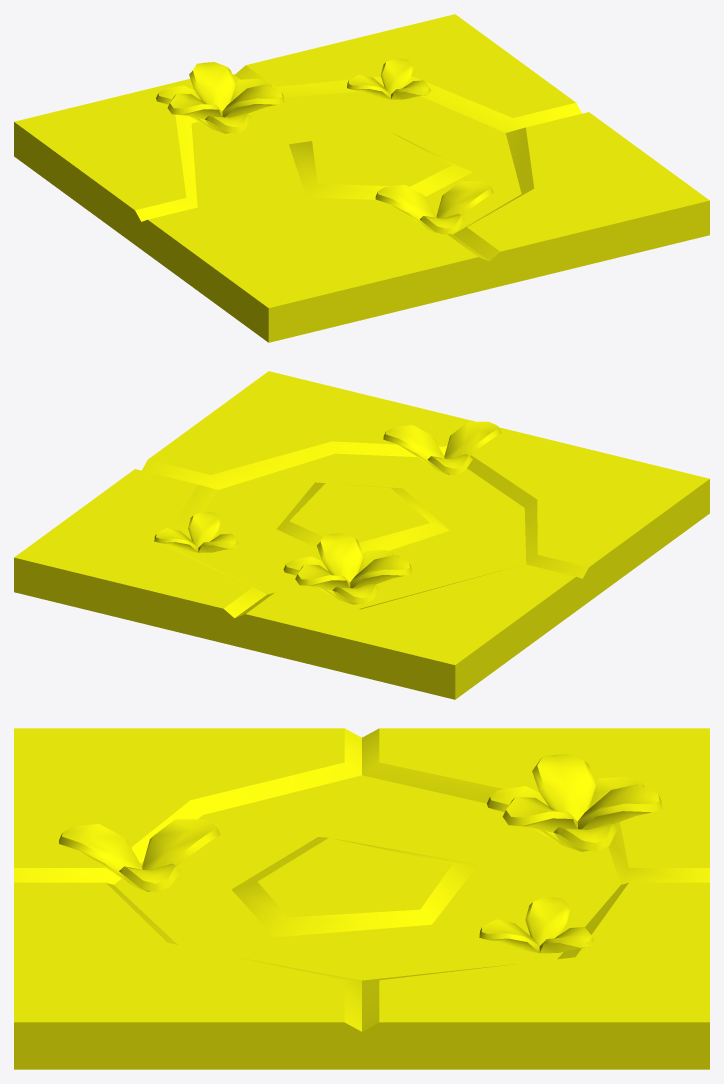
File: kaykit-floor-tile-small-weeds-a.glb
The picture shows the model from 3 angles, top to bottom: view 1: azimuth 30°, elevation 25°; view 2: azimuth 150°, elevation 25°; view 3: azimuth 270°, elevation 25°; orthographic projection. The views are drawn at different scales.
Visible parts, largest first — view 1: floor_tile_small_weeds_A; view 2: floor_tile_small_weeds_A; view 3: floor_tile_small_weeds_A.
Boxes of the visible parts, box(x1,y1,x2,y2) form: floor_tile_small_weeds_A: box(14, 14, 709, 342); floor_tile_small_weeds_A: box(14, 371, 709, 699); floor_tile_small_weeds_A: box(14, 728, 709, 1069).
Bounding box in the file's own units: 2 × 0.2954 × 2.
